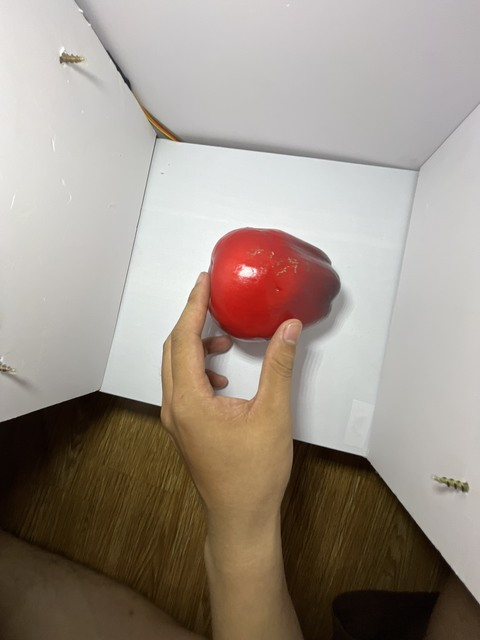Tao: (203, 224, 339, 346)
